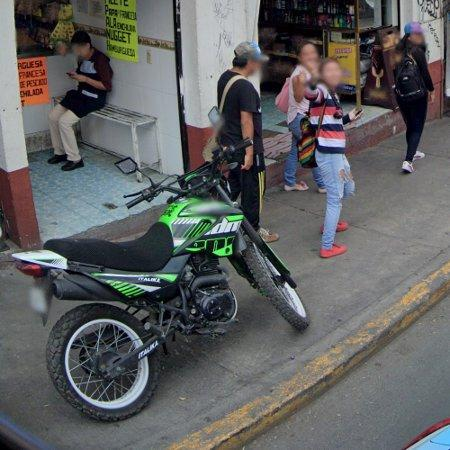motorcycles: (12, 141, 310, 422)
